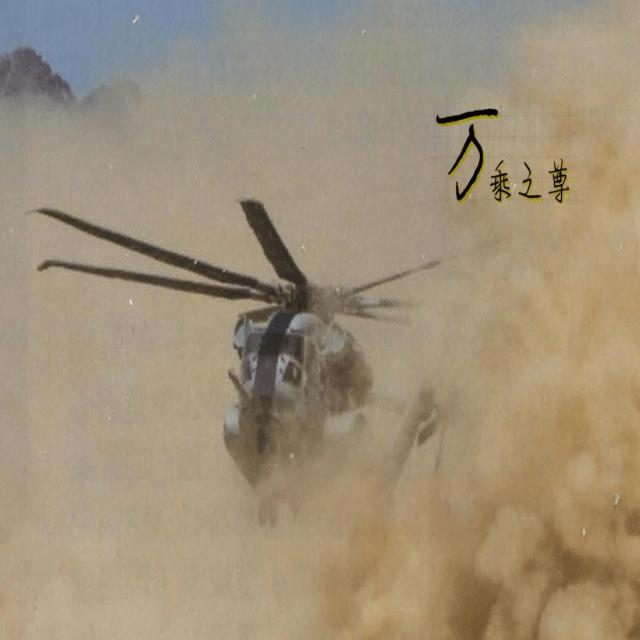MIL_HELO: (16, 176, 502, 553)
